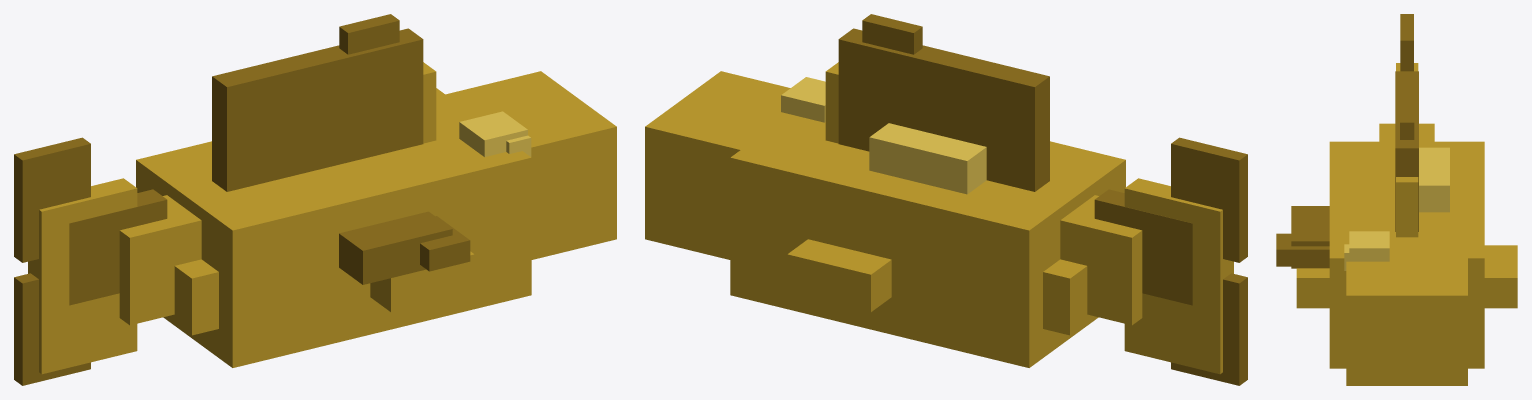
The model's file is fish_crown_plaza.glb.
3 renders of one model, left to right at view 1: azimuth 30°, elevation 25°; view 2: azimuth 150°, elevation 25°; view 3: azimuth 270°, elevation 25°, orthographic. The views are drawn at different scales.
Parts seen in each view (by area): view 1: FishArt_body, FishArt_dorsal, FishArt_tail, FishArt_pectoral, FishArt_eye; view 2: FishArt_body, FishArt_dorsal, FishArt_tail, FishArt_specialty, FishArt_eye; view 3: FishArt_body, FishArt_pectoral, FishArt_dorsal, FishArt_specialty, FishArt_eye, FishArt_tail.
Part boxes in pixels (x1,y1,x2,y2): FishArt_body: (28, 62, 616, 374); FishArt_dorsal: (212, 14, 423, 191); FishArt_tail: (14, 137, 167, 385); FishArt_pectoral: (339, 211, 470, 284); FishArt_eye: (459, 111, 531, 156); FishArt_body: (645, 62, 1233, 374); FishArt_dorsal: (838, 14, 1049, 191); FishArt_tail: (1094, 137, 1247, 385); FishArt_specialty: (869, 123, 986, 194); FishArt_eye: (781, 77, 825, 122); FishArt_body: (1296, 63, 1517, 385); FishArt_pectoral: (1276, 206, 1329, 268); FishArt_dorsal: (1395, 71, 1418, 231); FishArt_specialty: (1419, 147, 1449, 212); FishArt_eye: (1344, 231, 1389, 270); FishArt_tail: (1400, 14, 1413, 71).
Size of the model in its own units: 0.3091 by 0.1442 by 0.1439.
